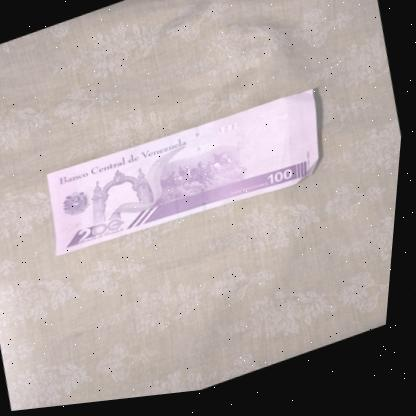one_hundred-back-vef: (38, 85, 338, 273)
